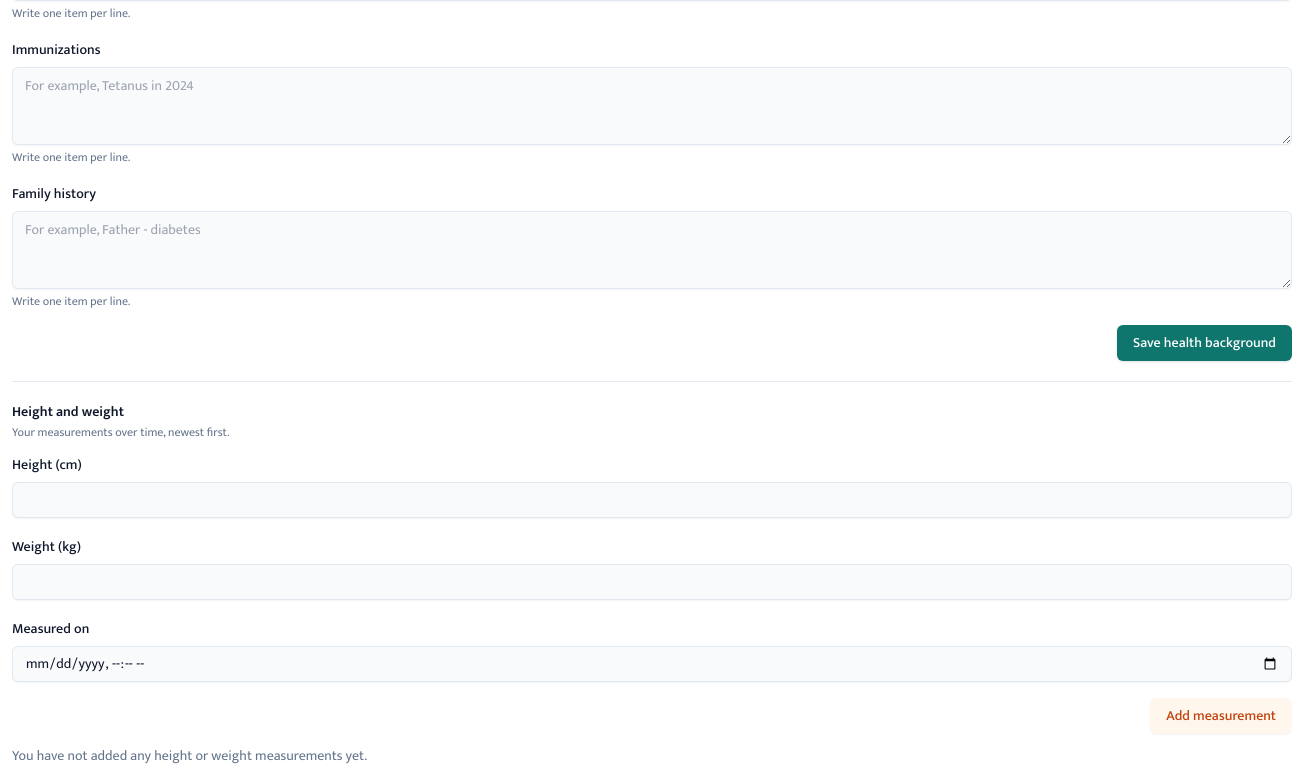
Health background zone surface (#549) › refuses text in a measurement box instead of saving it as absent
The width and height of the screenshot is (1304, 777).
(page scrolled)
Step 1. Type "tall" into the field with test id "ps-hb-metric-height" → (652, 500), box [12,482,1292,518]
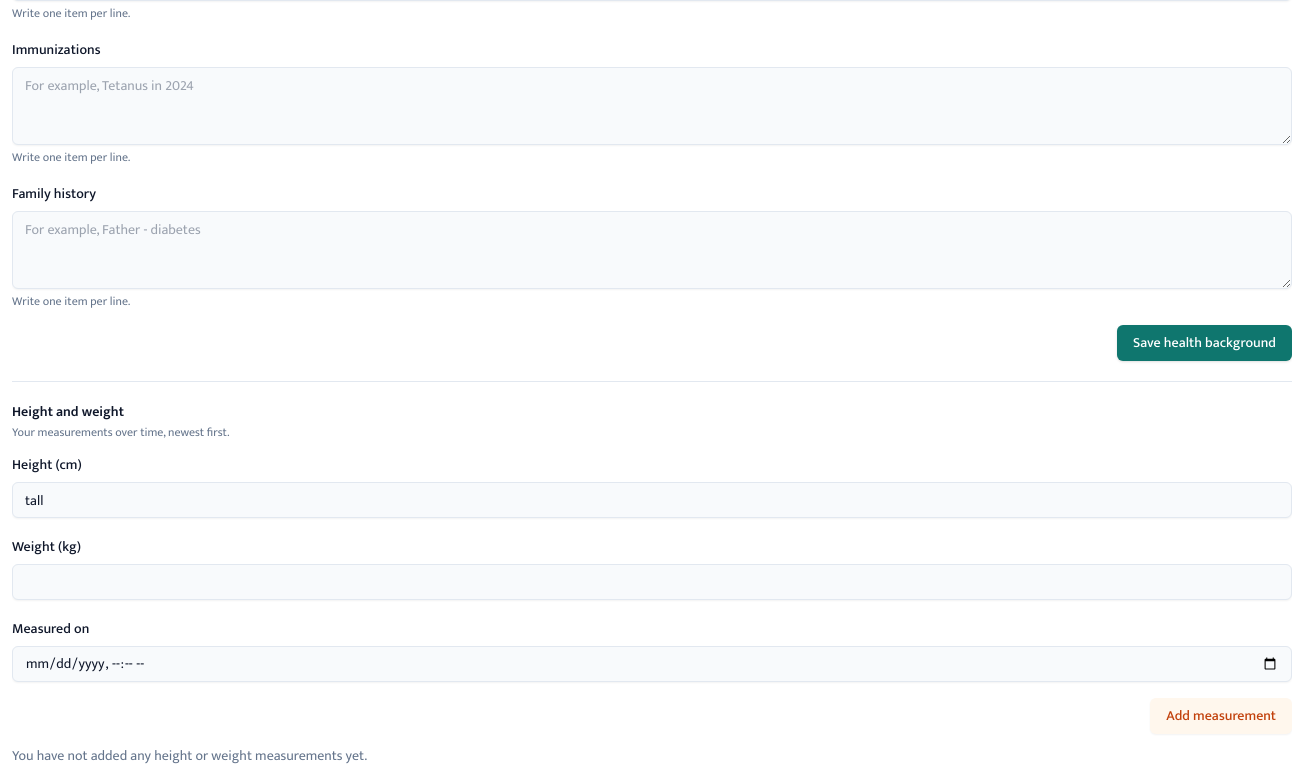
Step 2. Type "68.5" into the field with test id "ps-hb-metric-weight" → (652, 582), box [12,564,1292,600]
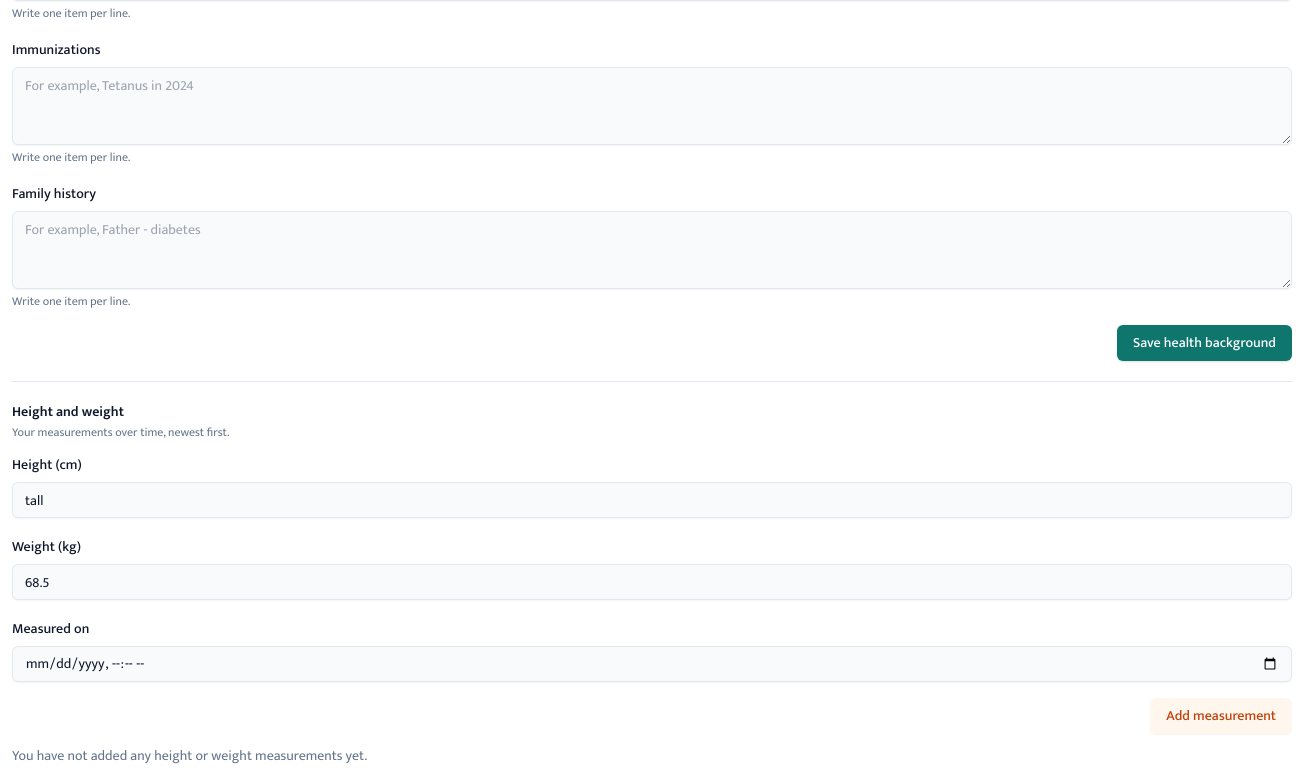
Step 3. Type "2026-09-26T10:00" into the field with test id "ps-hb-metric-recorded-at" → (652, 664), box [12,646,1292,682]
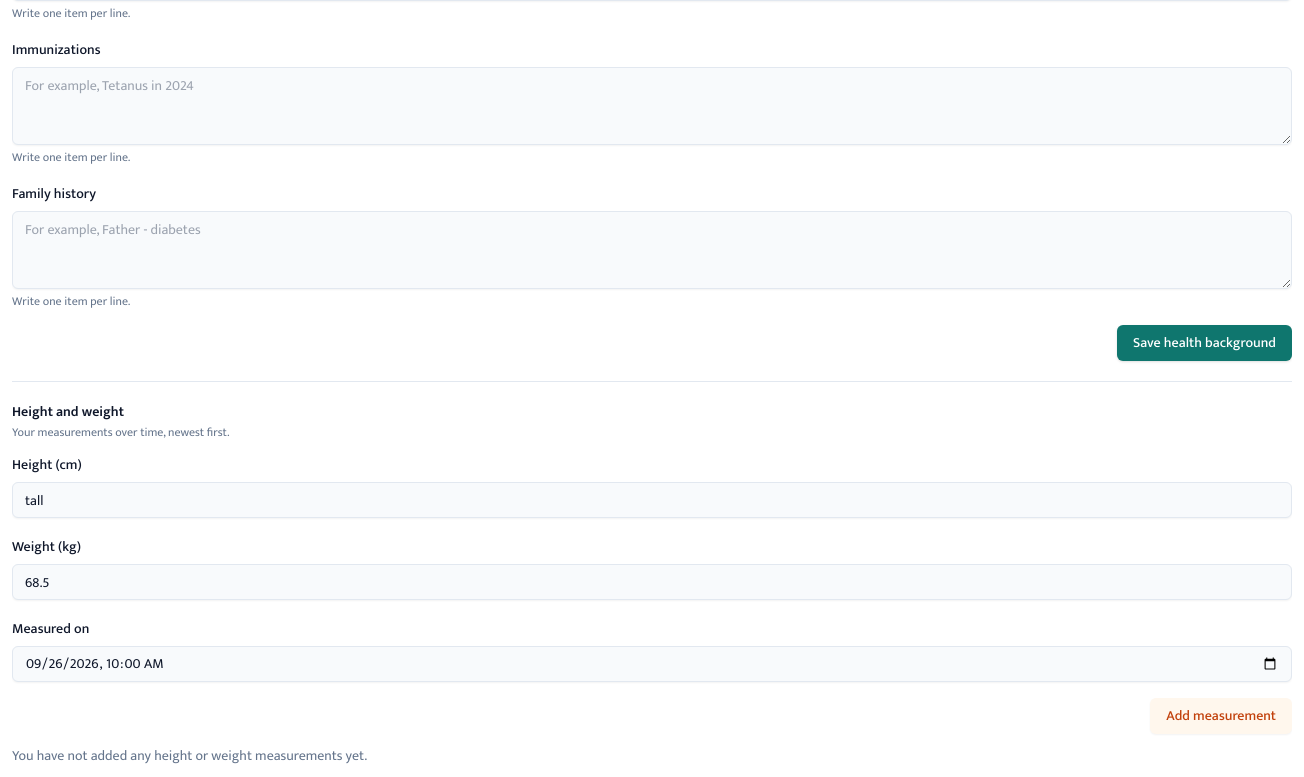
Step 4. Click the button with test id "ps-hb-metric-add" → (1221, 716), box [1150,698,1292,734]
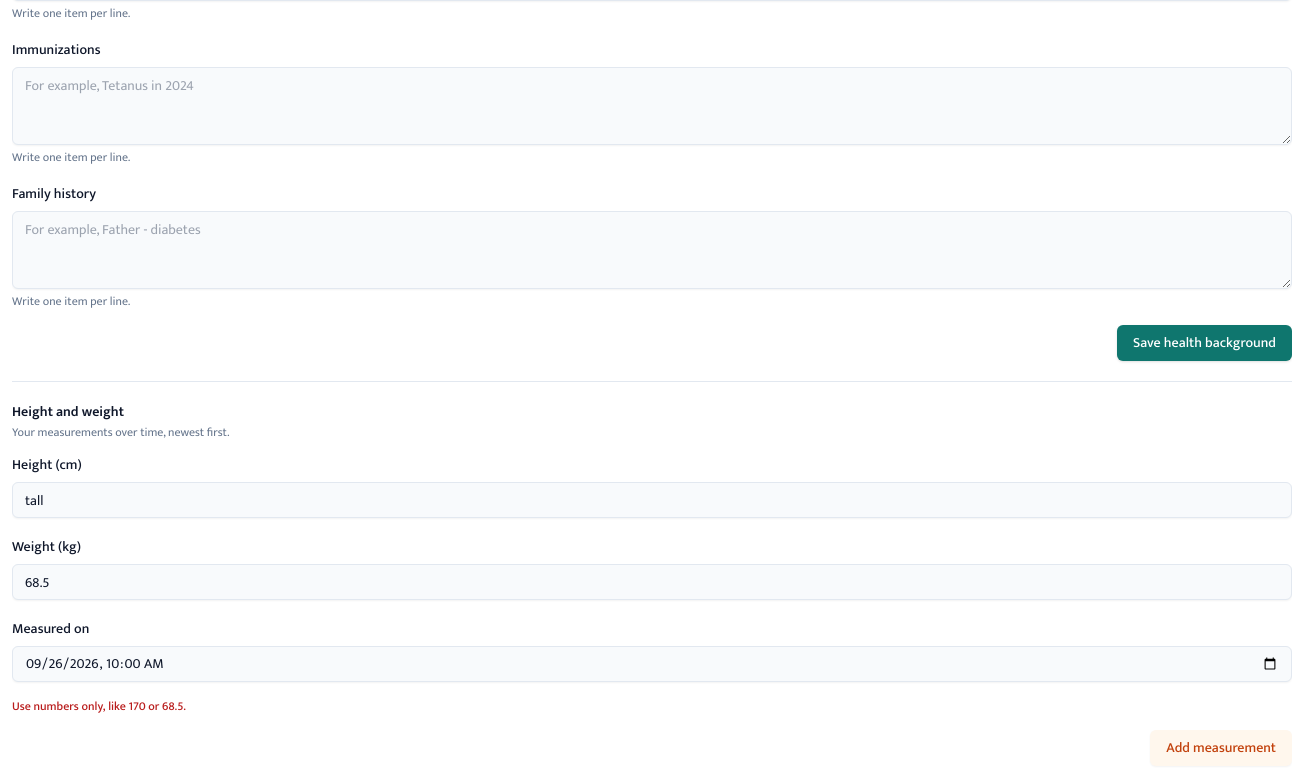
Now the message with test id "ps-hb-metric-error-height" reads "Use numbers only, like 170 or 68.5.", box [12,696,186,716]
